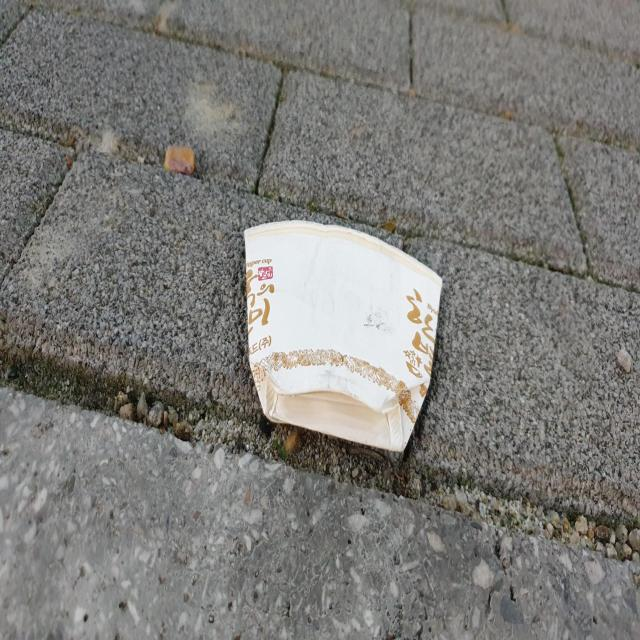paperpack: (245, 219, 443, 452)
